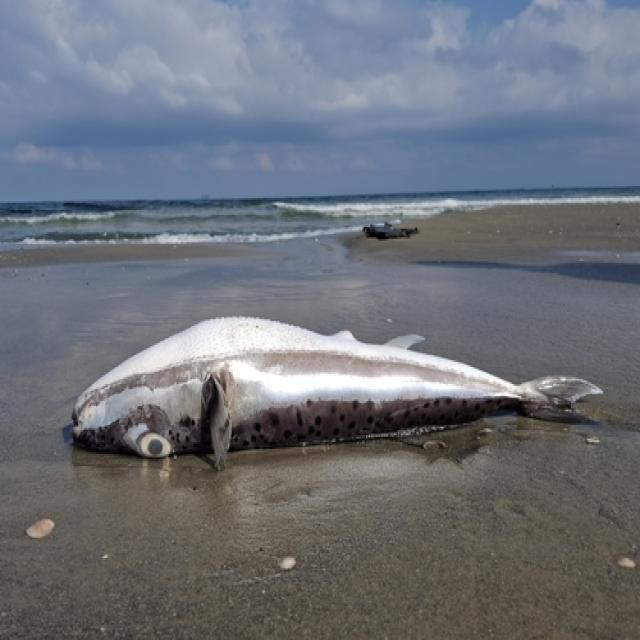Balik: (72, 318, 601, 462)
